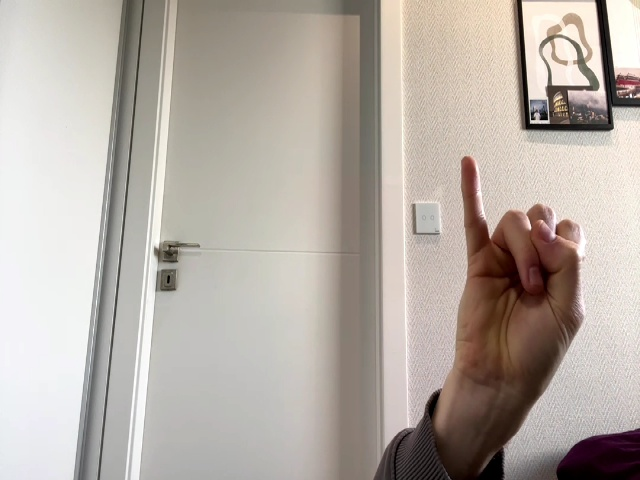I: (456, 156, 588, 402)
